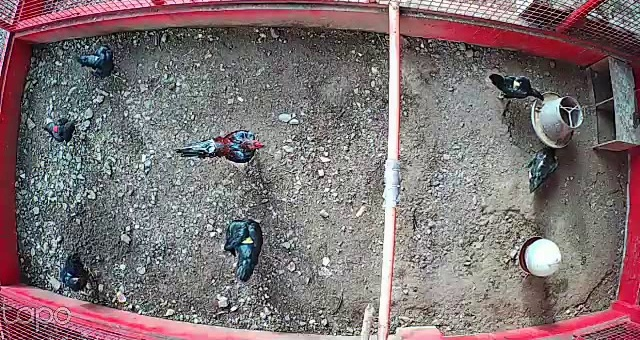Chicken: (223, 217, 266, 288), (487, 70, 546, 107), (55, 252, 102, 297), (76, 43, 122, 81), (525, 147, 561, 193), (44, 115, 80, 147)
Rooster: (170, 130, 270, 166)
Saddle_Color_Red: (54, 125, 58, 131)
Saddle_Color_Yellow: (241, 235, 255, 243)
